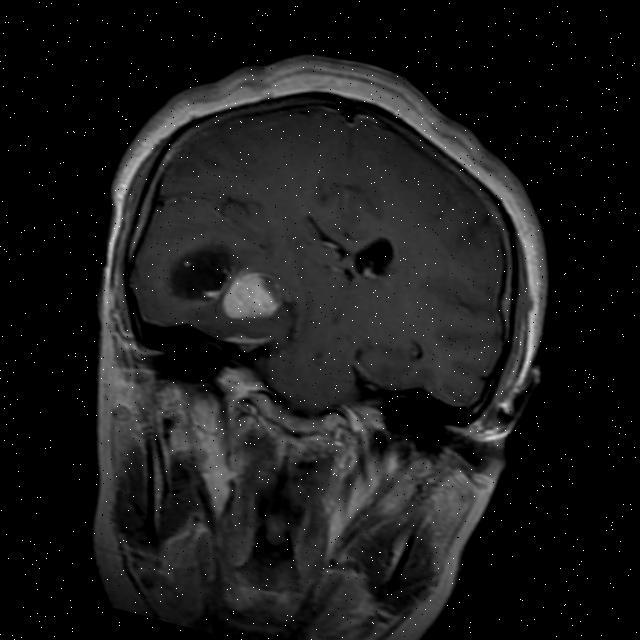Meningioma: (162, 231, 292, 331)
